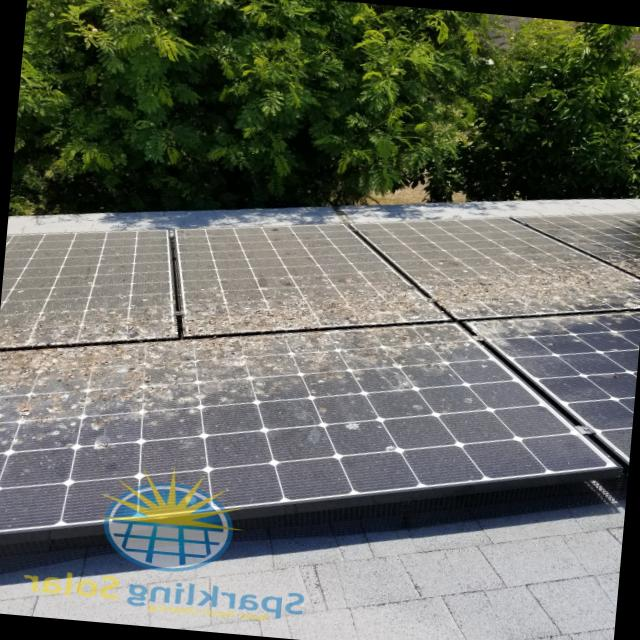faulty: (0, 222, 640, 524)
